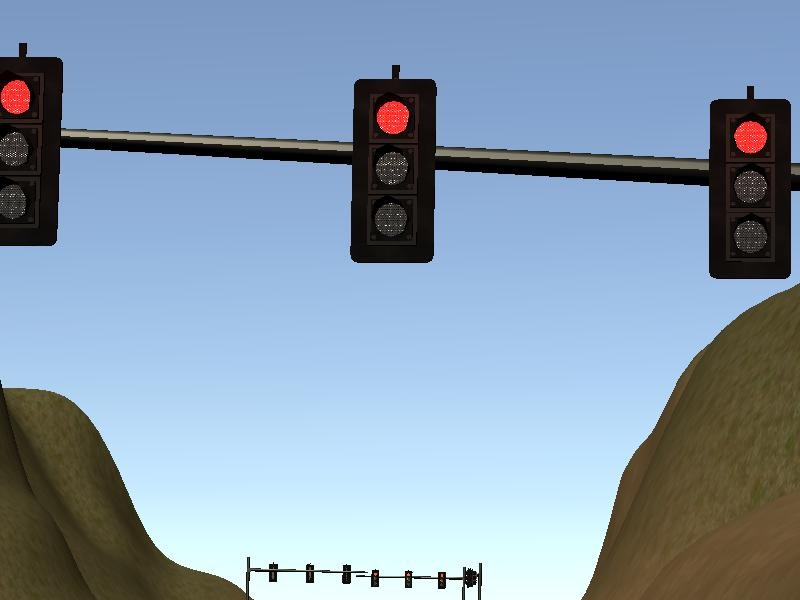RED: (350, 79, 434, 262), (706, 98, 790, 281), (1, 57, 64, 248)
